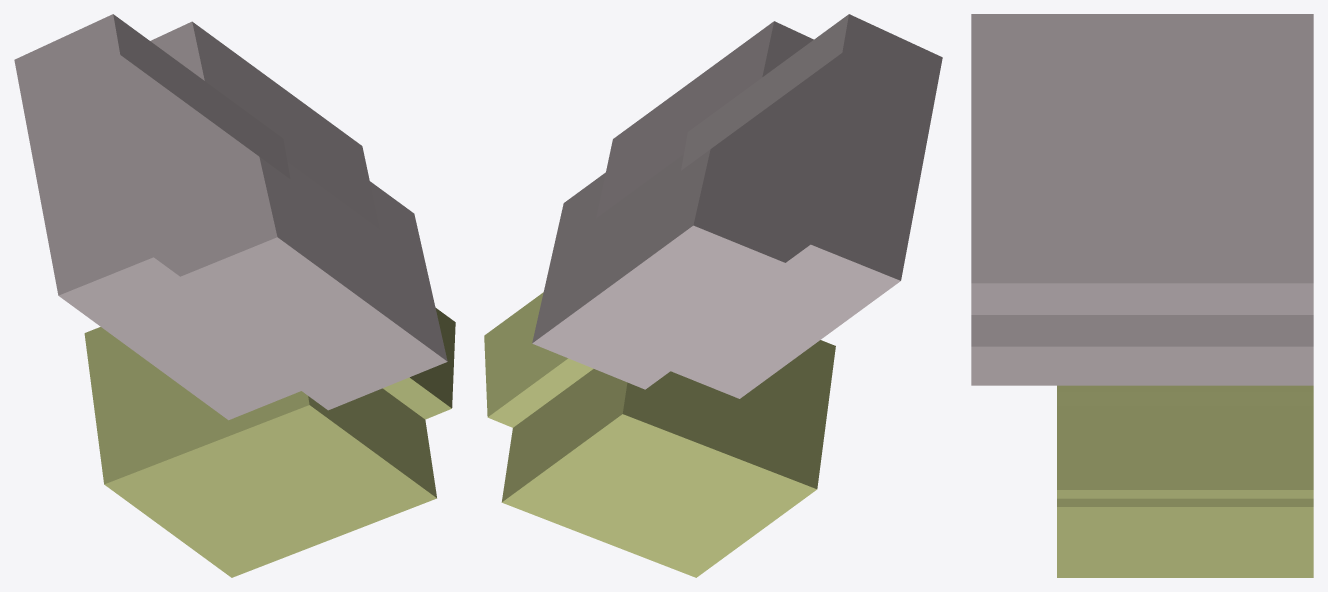
3 views of the same model, side by side, from view 1: azimuth 30°, elevation 25°; view 2: azimuth 150°, elevation 25°; view 3: azimuth 270°, elevation 25° (orthographic). The views are drawn at different scales.
Visible parts, largest first — view 1: 0_1_2_0_3_3_0_2_3_3; view 2: 0_1_2_0_3_3_0_2_3_3; view 3: 0_1_2_0_3_3_0_2_3_3.
Boxes of the visible parts, x1,y1,x2,y2 form: 0_1_2_0_3_3_0_2_3_3: [14, 14, 455, 577]; 0_1_2_0_3_3_0_2_3_3: [484, 14, 942, 577]; 0_1_2_0_3_3_0_2_3_3: [971, 14, 1313, 577].
Bounding box in the file's own units: 12.77 × 18.21 × 12.
